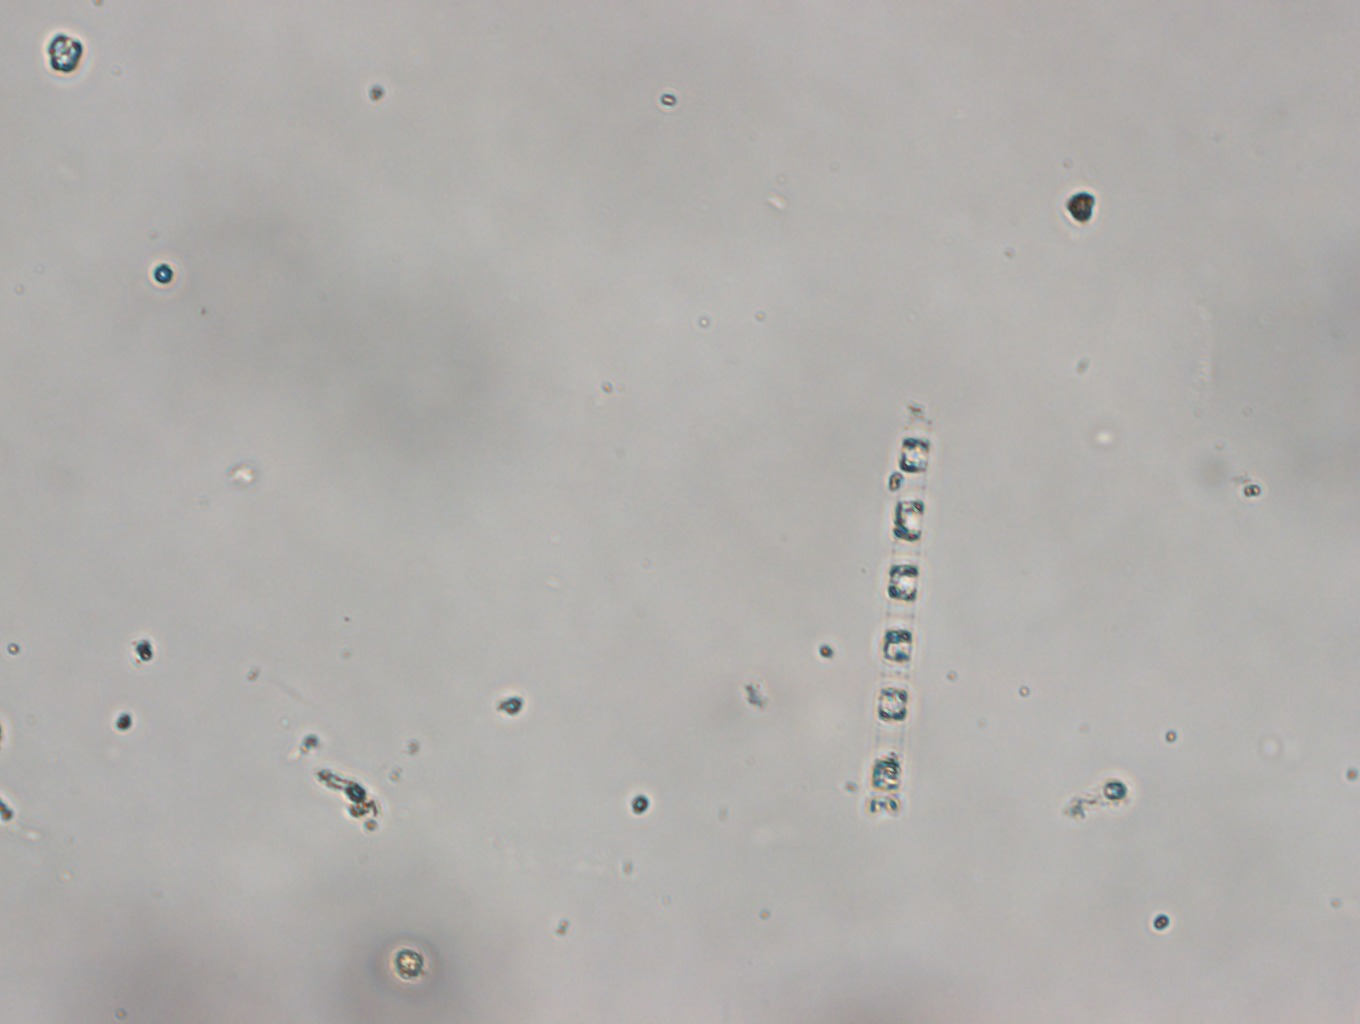skeletonema: (856, 392, 933, 822)
